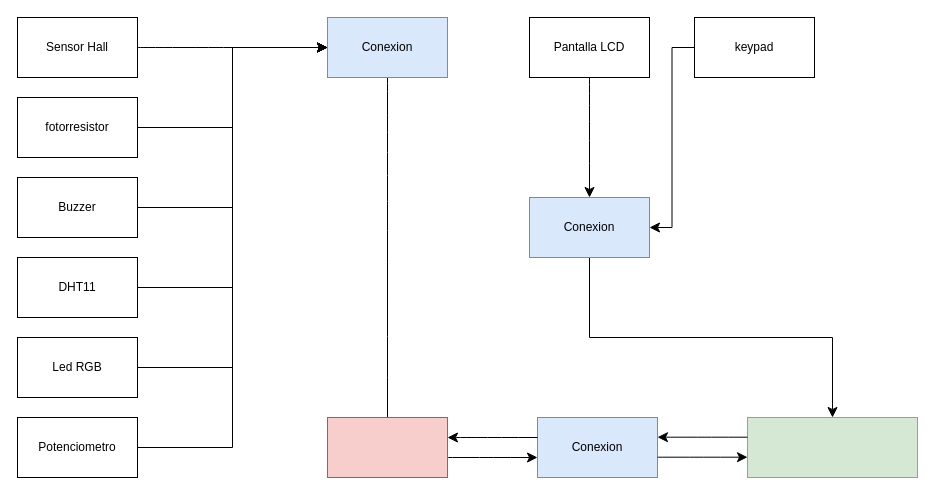
Image size: 935x495. Some labels were removed from this diagram. Each missing label, with the centre of its shape:
Arduino Mega: (832,447)
Protoboard: (387,447)
